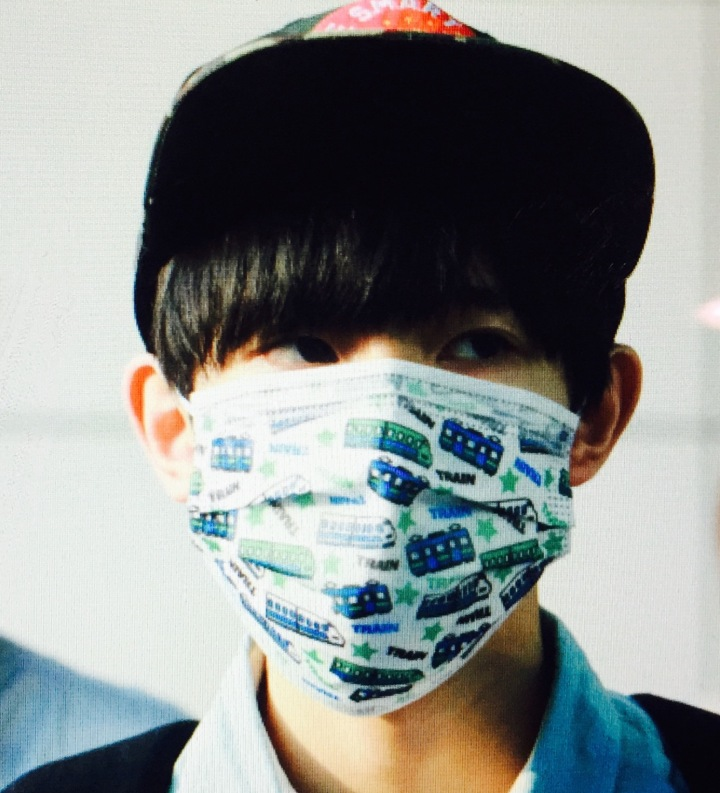face_mask: (206, 196, 554, 676)
